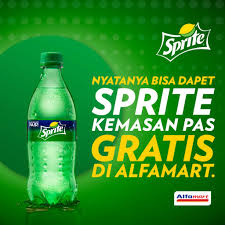botol: (27, 50, 77, 203)
